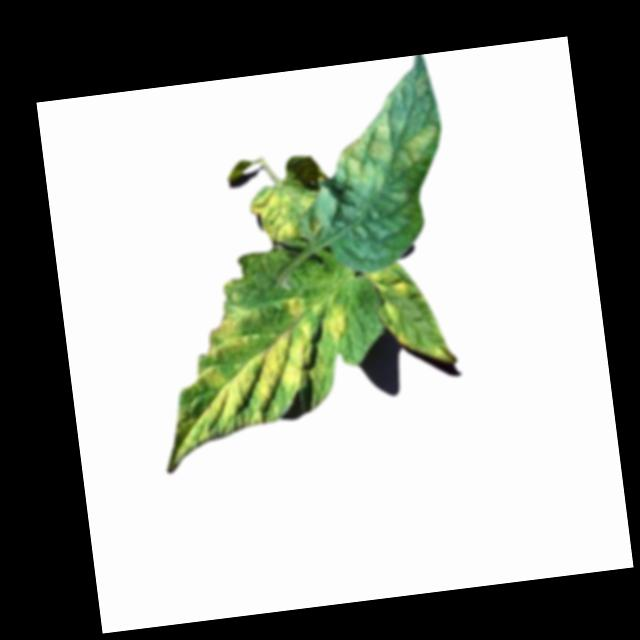Leaf_Mold: (151, 288, 361, 470), (333, 104, 447, 194), (248, 174, 322, 246), (364, 266, 409, 303)
